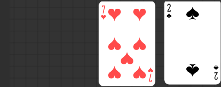2C: (166, 3, 173, 20)
7H: (101, 5, 108, 21)
